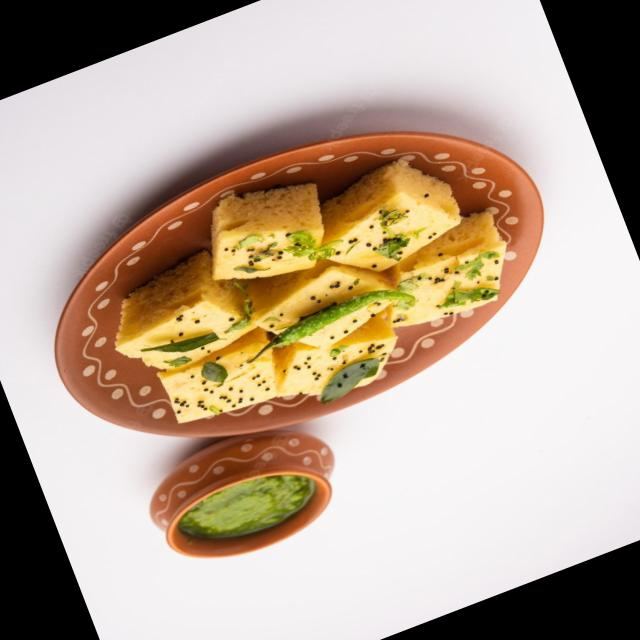dhokla: (86, 116, 527, 455)
